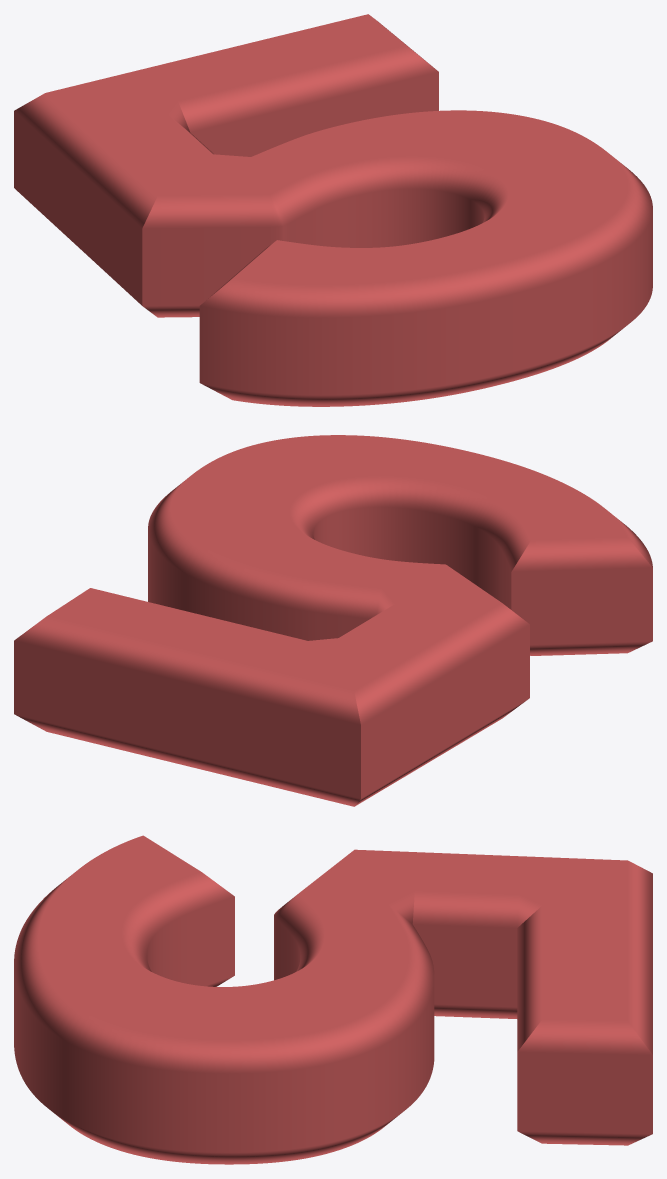
3 views of the same model, one above another, from view 1: azimuth 30°, elevation 25°; view 2: azimuth 150°, elevation 25°; view 3: azimuth 270°, elevation 25° (orthographic). The views are drawn at different scales.
Visible parts, largest first — view 1: Text; view 2: Text; view 3: Text.
Boxes of the visible parts, left/top/right/bottom form: Text: left=14, top=14, right=652, bottom=406; Text: left=14, top=435, right=652, bottom=806; Text: left=14, top=835, right=652, bottom=1164.
Size of the model in its own units: 0.4382 by 0.11 by 0.5138.
